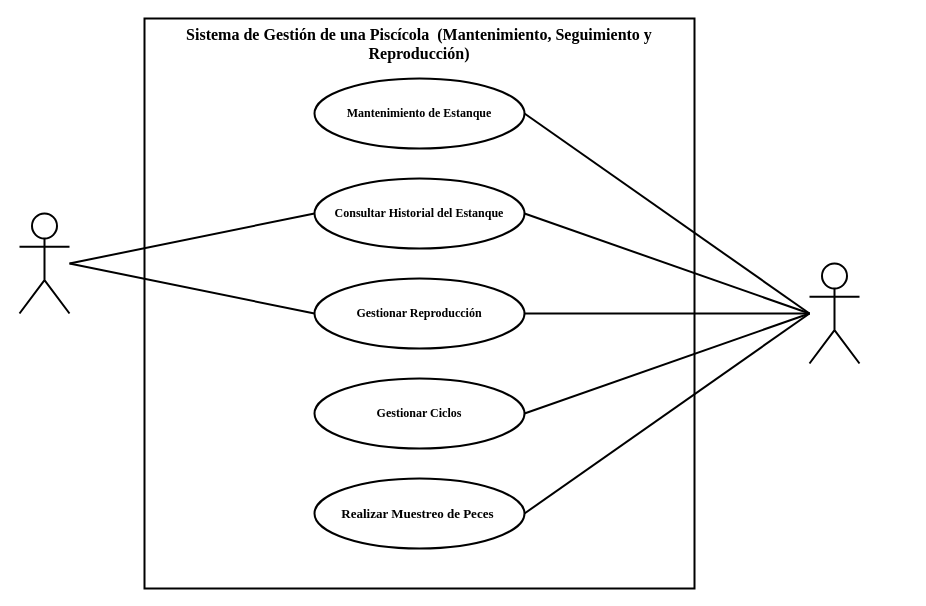
Image size: 926x606. Some labels were removed from this diagram. Here are the shapes that lost their labels. From the top down, the centre of each, then its label:
(x=44, y=263): Piscicultor
(x=834, y=313): Encargado de la Estación
